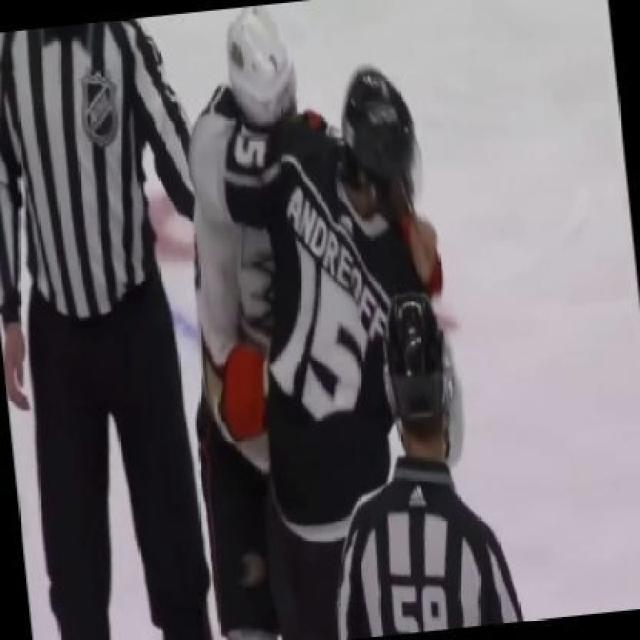fight: (190, 0, 460, 640)
non-fight: (0, 10, 216, 638), (280, 274, 545, 638)
